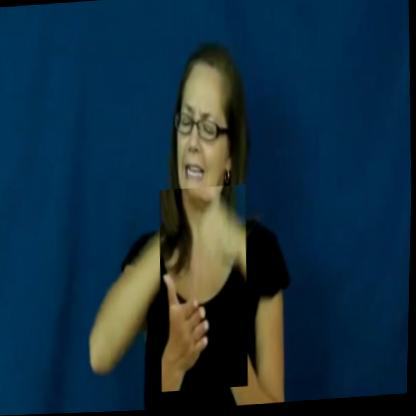Expensive: (157, 186, 253, 394)
